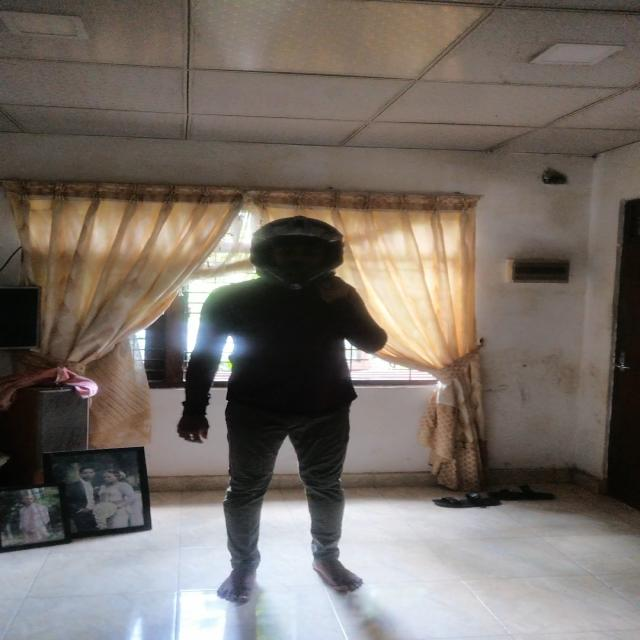Helmet_Wearer: (246, 211, 350, 287)
Person: (208, 224, 396, 597)
